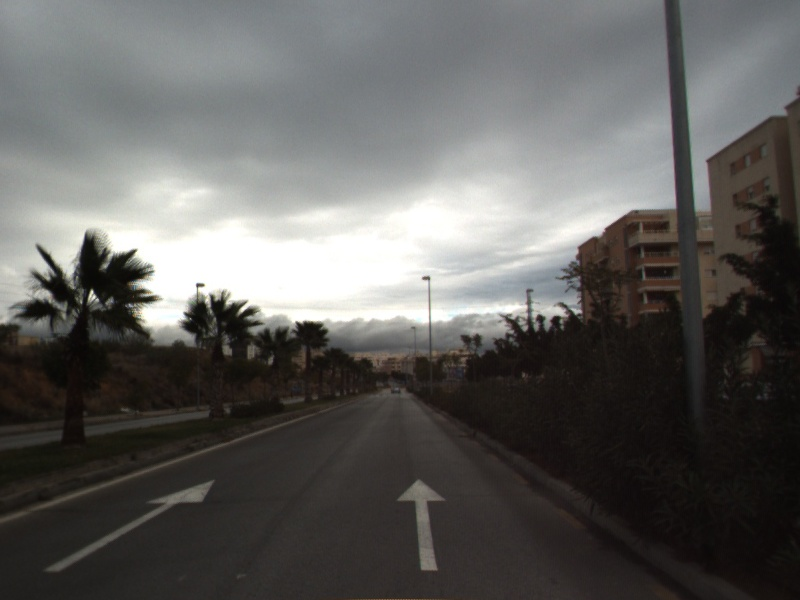STRAIGHT: (41, 477, 217, 574), (394, 476, 449, 572)
